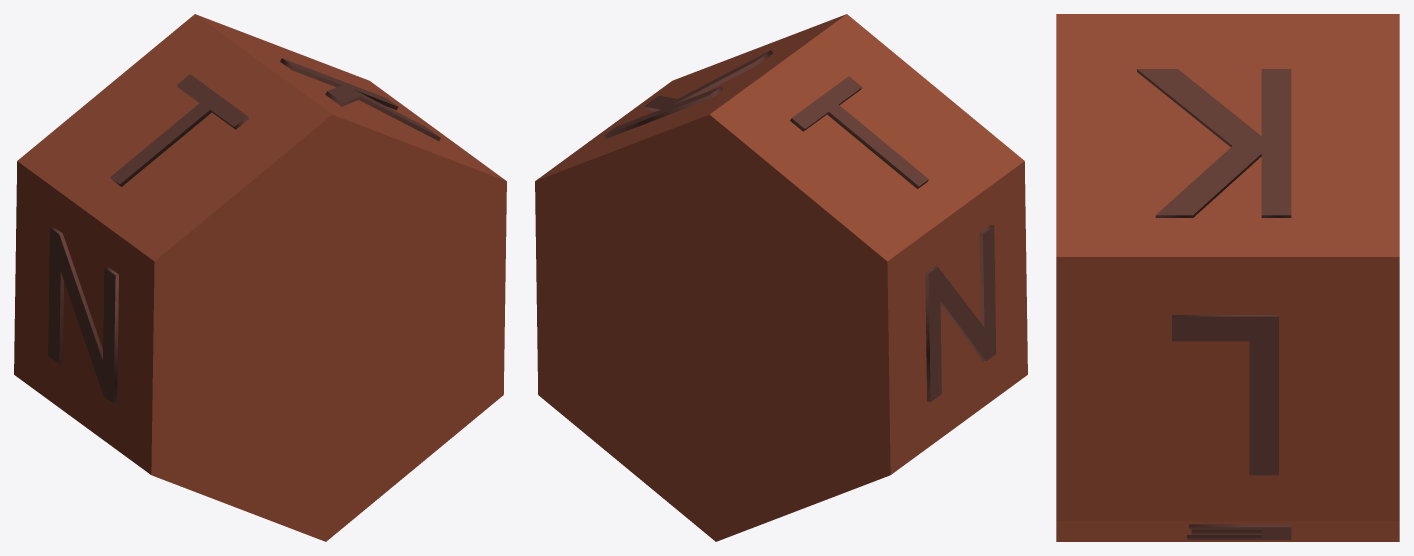
The model's file is CodigoLetraRojo.fbx.
3 views of the same model, side by side, from view 1: azimuth 30°, elevation 25°; view 2: azimuth 150°, elevation 25°; view 3: azimuth 270°, elevation 25° (orthographic). The views are drawn at different scales.
Visible parts, largest first — view 1: Text.011; view 2: Text.011; view 3: Text.011.
Boxes of the visible parts, x1,y1,x2,y2 form: Text.011: (14,14,506,541); Text.011: (535,14,1027,541); Text.011: (1056,14,1399,541).
Size of the model in its own units: 11.15 by 12.58 by 7.36.
